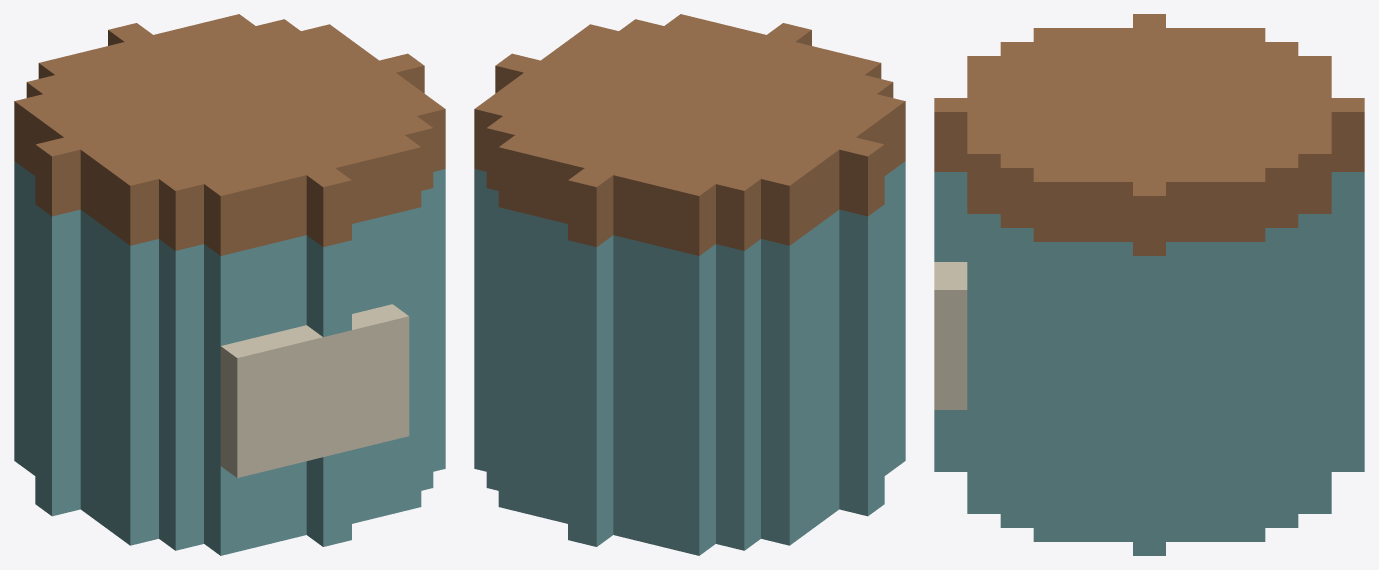
File: publishing-08.glb
3 views of the same model, side by side, from view 1: azimuth 30°, elevation 25°; view 2: azimuth 150°, elevation 25°; view 3: azimuth 270°, elevation 25° (orthographic).
Visible parts, largest first — view 1: Ink bottle; view 2: Ink bottle; view 3: Ink bottle.
Part boxes in pixels (bbox=[...]): Ink bottle: bbox=[14, 14, 445, 555]; Ink bottle: bbox=[474, 14, 905, 555]; Ink bottle: bbox=[934, 14, 1364, 555].
Size of the model in its own units: 1.04 by 0.96 by 1.04.
